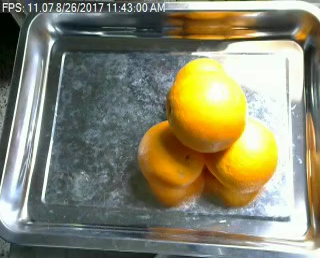Orange: (167, 71, 247, 152), (204, 116, 277, 194), (136, 119, 207, 188)
